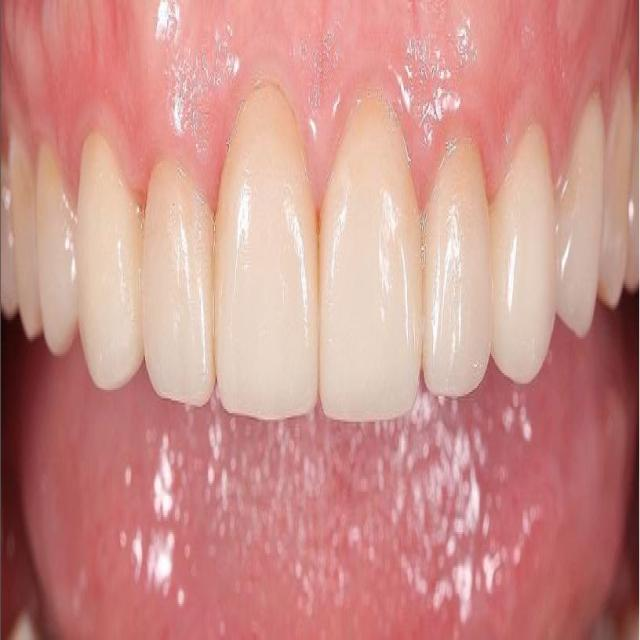1st Molar: (0, 157, 16, 320), (627, 119, 640, 290)
1st Premolar: (555, 93, 605, 337), (39, 140, 77, 356)
2nd Premolar: (602, 76, 634, 309), (5, 140, 40, 337)
Canine: (76, 134, 144, 392), (491, 123, 555, 386)
Central Incisor: (213, 87, 318, 420), (318, 100, 424, 422)
Lateral Incisor: (422, 131, 493, 396), (142, 157, 216, 409)
